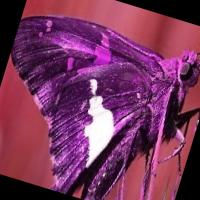butterfly: (10, 16, 200, 200)
